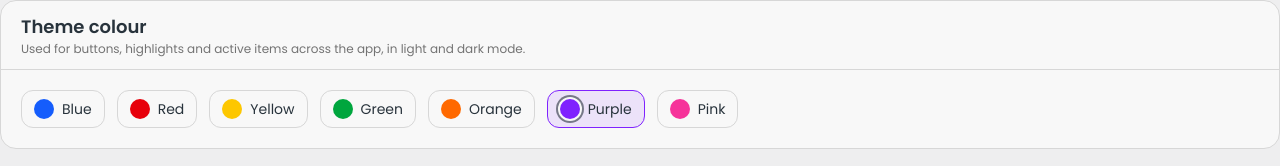
Test: ThemeColourPicker › updates instantly on every click and saves only the last choice
The width and height of the screenshot is (1280, 166).
Step 1. Click the radio button labelled "Green" → [368, 109], box left=320, top=90, right=416, bottom=128
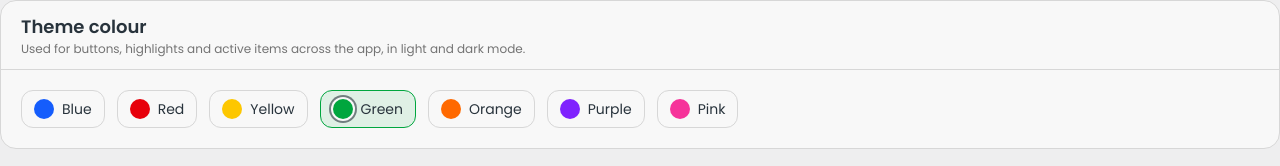
Expected: the radio button labelled "Green" is checked, left=320, top=90, right=416, bottom=128
Step 2. Click the radio button labelled "Red" → [157, 109], box left=117, top=90, right=197, bottom=128
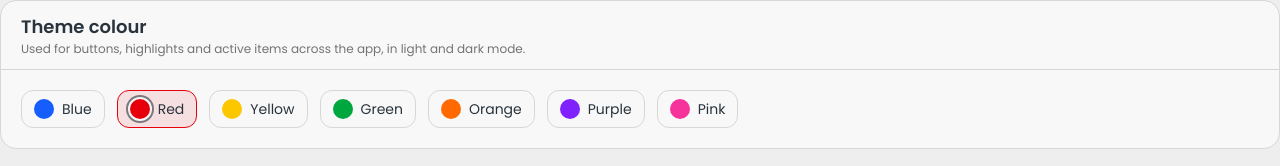
Step 3. Click the radio button labelled "Blue" → [63, 109], box left=21, top=90, right=105, bottom=128
Wait 400 ms
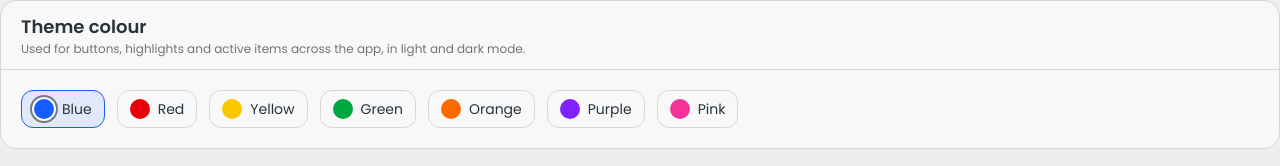
Expected: the radio button labelled "Blue" is checked, left=21, top=90, right=105, bottom=128
